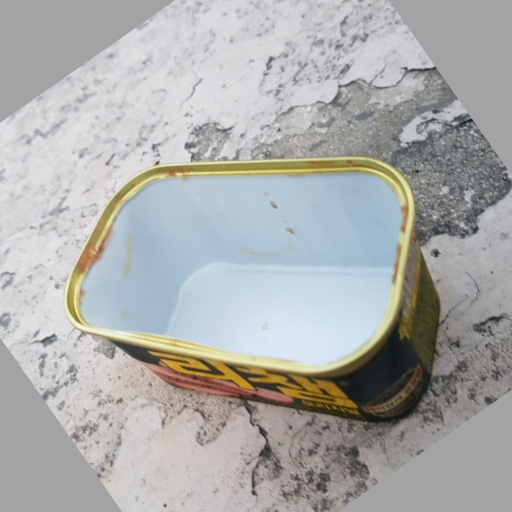Metal_2: (65, 163, 441, 421)
